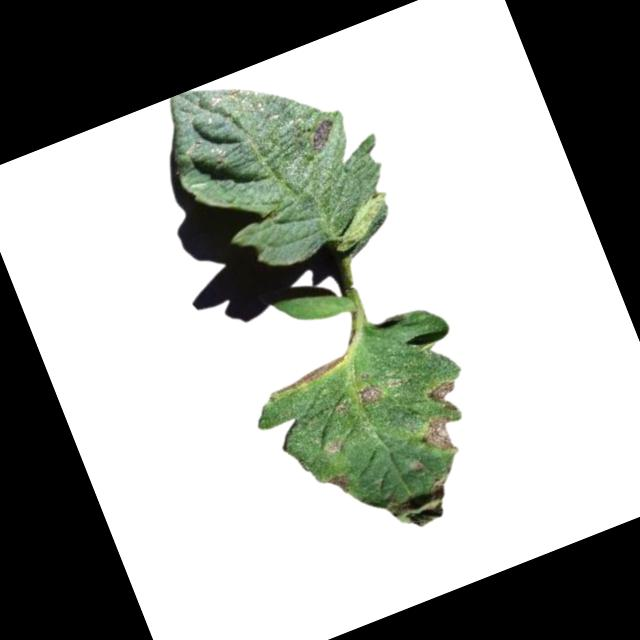Early_blight: (381, 475, 458, 537), (270, 351, 352, 396), (414, 410, 464, 462), (425, 375, 465, 417), (304, 115, 342, 153), (325, 470, 352, 498), (355, 381, 382, 406)
